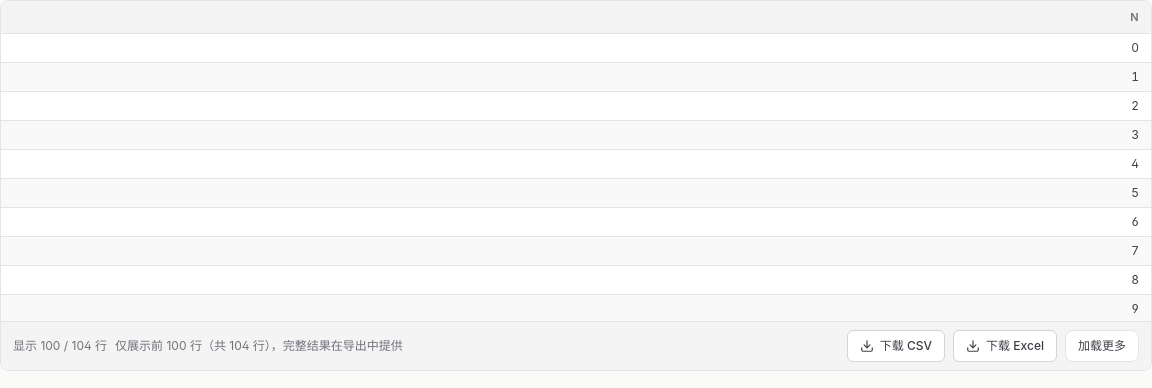
Test case: ResultTable › loads more rows from the artifact API and appends them up to rowCount
Expected: the text "显示 100 / 104 行" is shown, [13,338,107,354]
What coordinates should you click on to do the following:
click the button "加载更多"
I would click on:
 (1102, 346)
Its box is [1065,330,1139,362].
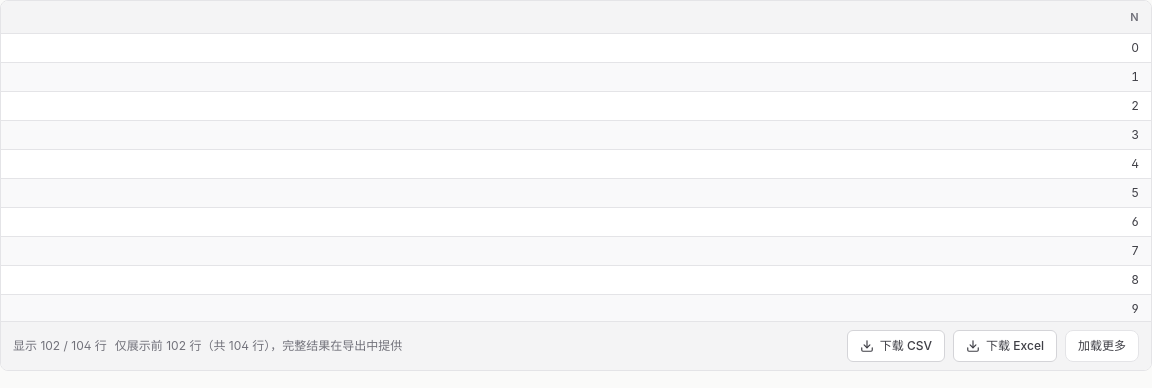
Expected: the text "显示 102 / 104 行" is shown, [13,338,107,354]
What coordinates should you click on to do the following:
click the button "加载更多"
I would click on:
 (1102, 346)
Its box is [1065,330,1139,362].
(page scrolled)
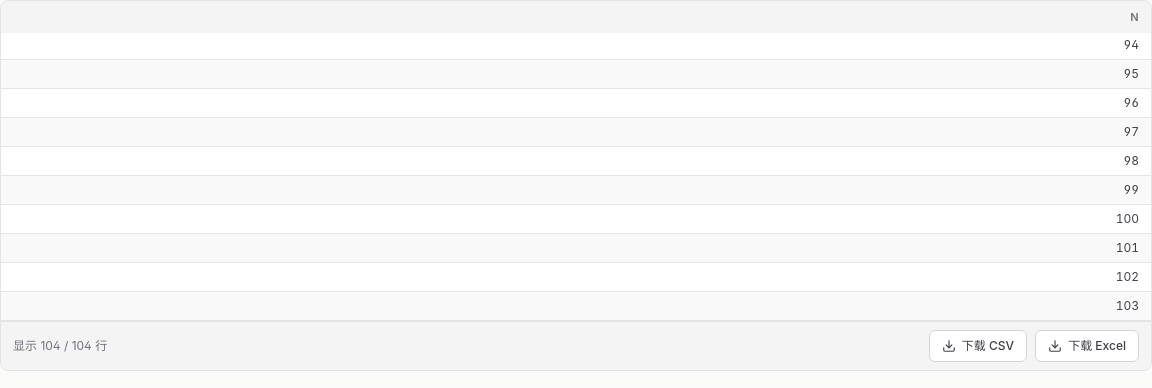
Expected: the text "显示 104 / 104 行" is shown, [13,338,107,354]
Expected: the cell "103" is shown, [1,292,1151,320]
Expected: the button "加载更多" is gone
